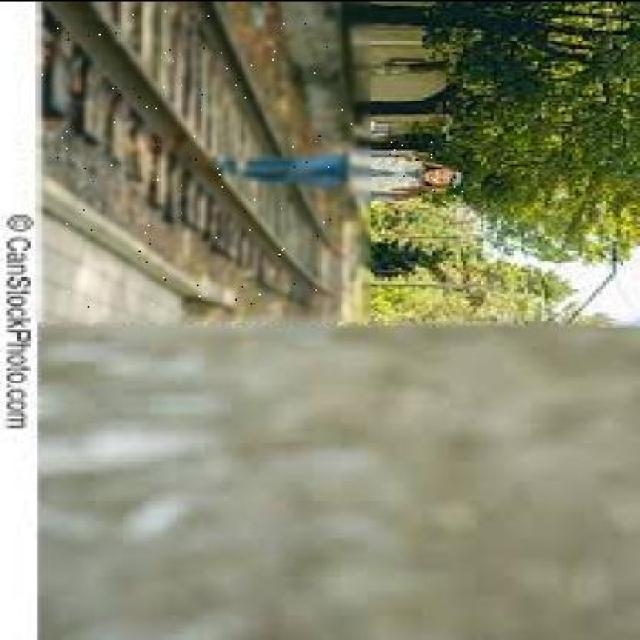danger: (218, 140, 464, 197)
rail: (37, 0, 370, 320)
